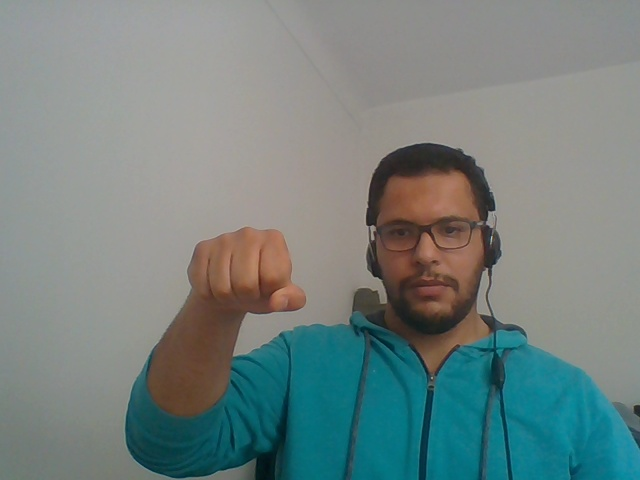yes: (161, 203, 313, 372)
